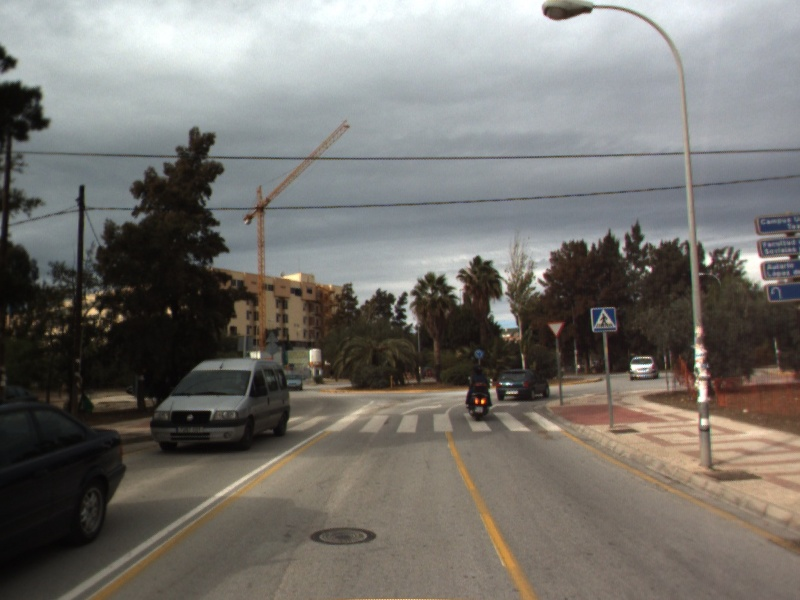RIGHT: (400, 402, 444, 416), (487, 400, 522, 411)
